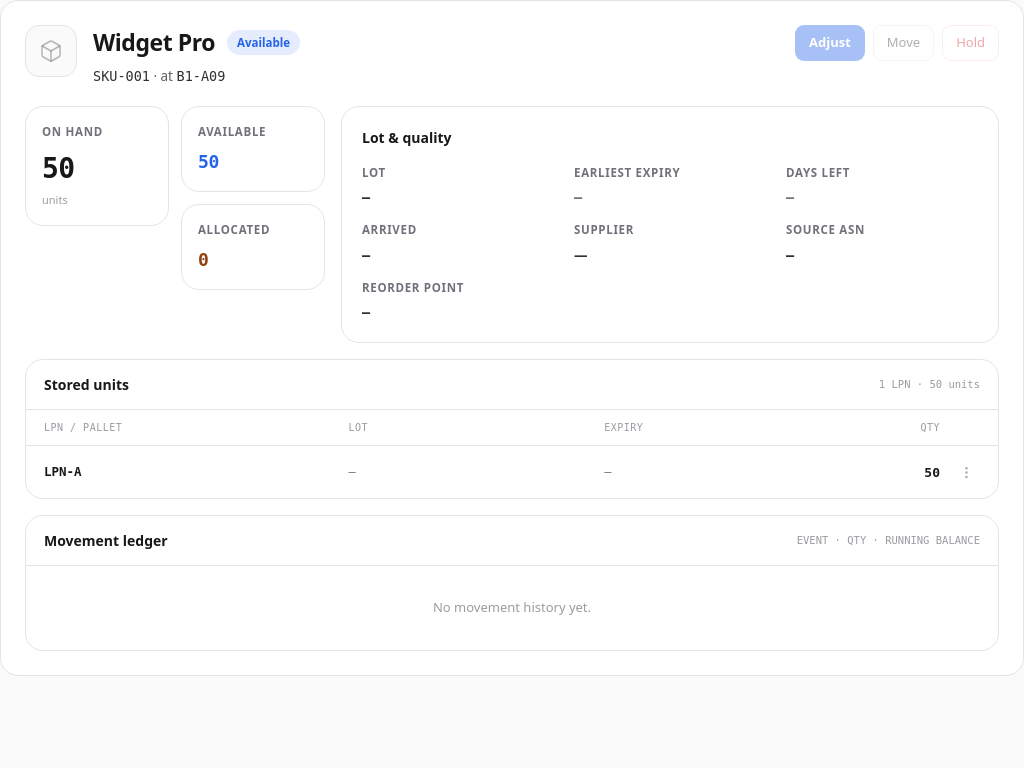
Test case: InventoryDetail — unit-load actions (change owner / carrier) › still offers the actions dropdown without inventory-write (doc actions are read-only)
The width and height of the screenshot is (1024, 768).
Click the button named "unit load actions".
click(966, 472)  # box [952,458,980,486]
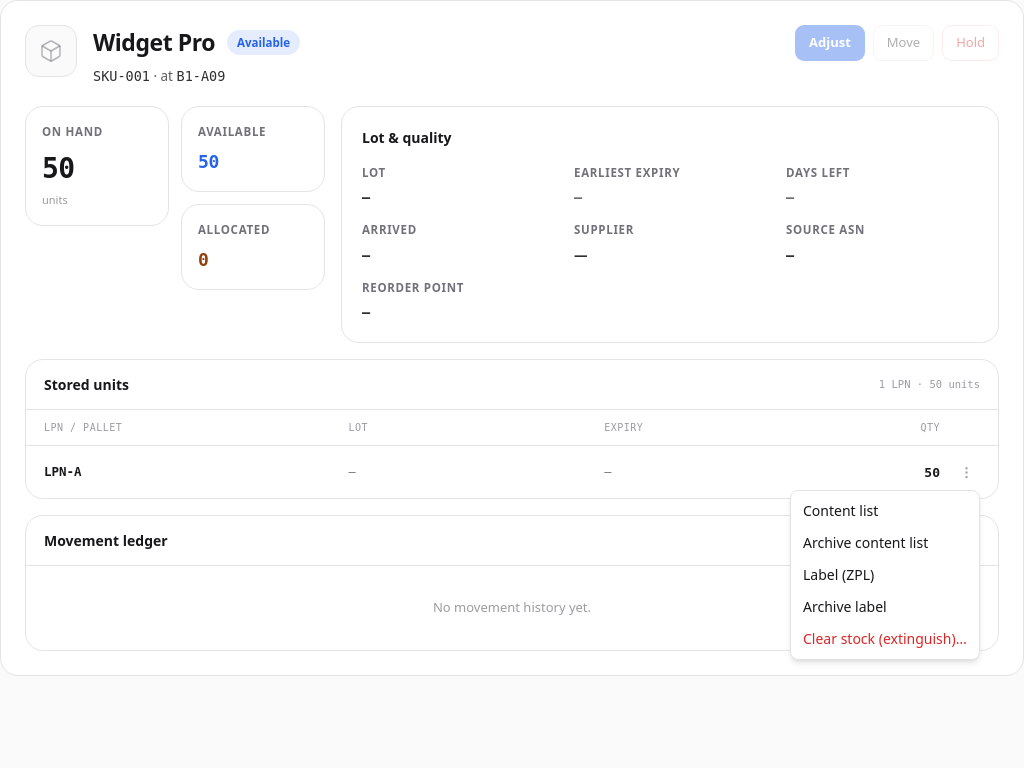
Now the menu item "Content list" is shown, box [803,501,878,520]
Now the menu item "Label (ZPL)" is shown, box [803,565,874,584]
